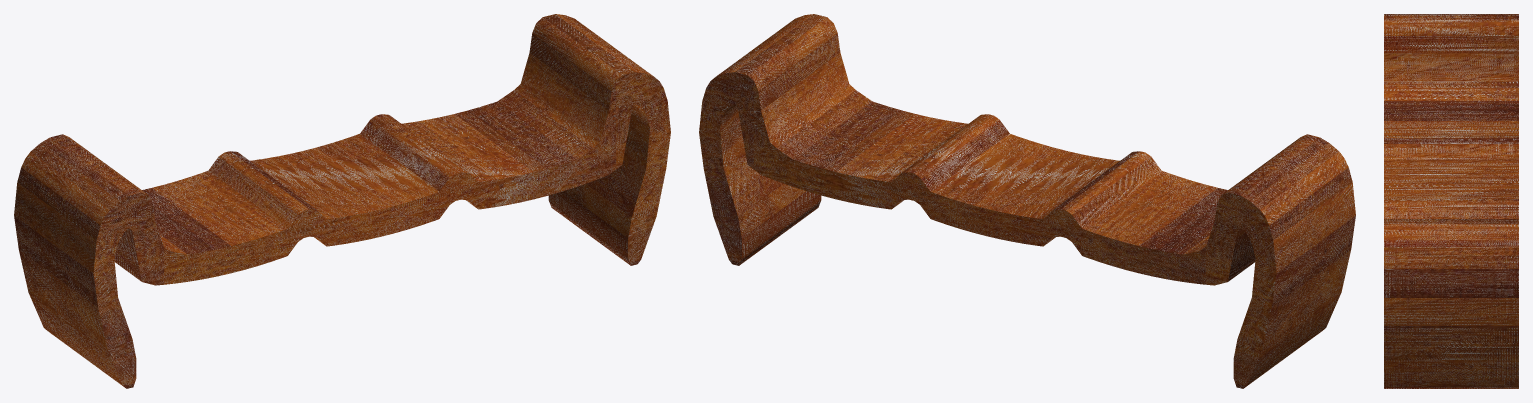
3 views of the same model, side by side, from view 1: azimuth 30°, elevation 25°; view 2: azimuth 150°, elevation 25°; view 3: azimuth 270°, elevation 25° (orthographic). The views are drawn at different scales.
Visible parts, largest first — view 1: mesh1_mesh1-geometry; view 2: mesh1_mesh1-geometry; view 3: mesh1_mesh1-geometry.
Boxes of the visible parts, x1=… form: mesh1_mesh1-geometry: x1=14, y1=14, x2=670, y2=388; mesh1_mesh1-geometry: x1=699, y1=14, x2=1355, y2=388; mesh1_mesh1-geometry: x1=1384, y1=14, x2=1518, y2=388.
Size of the model in its own units: 0.9291 by 0.2964 by 0.2213.
